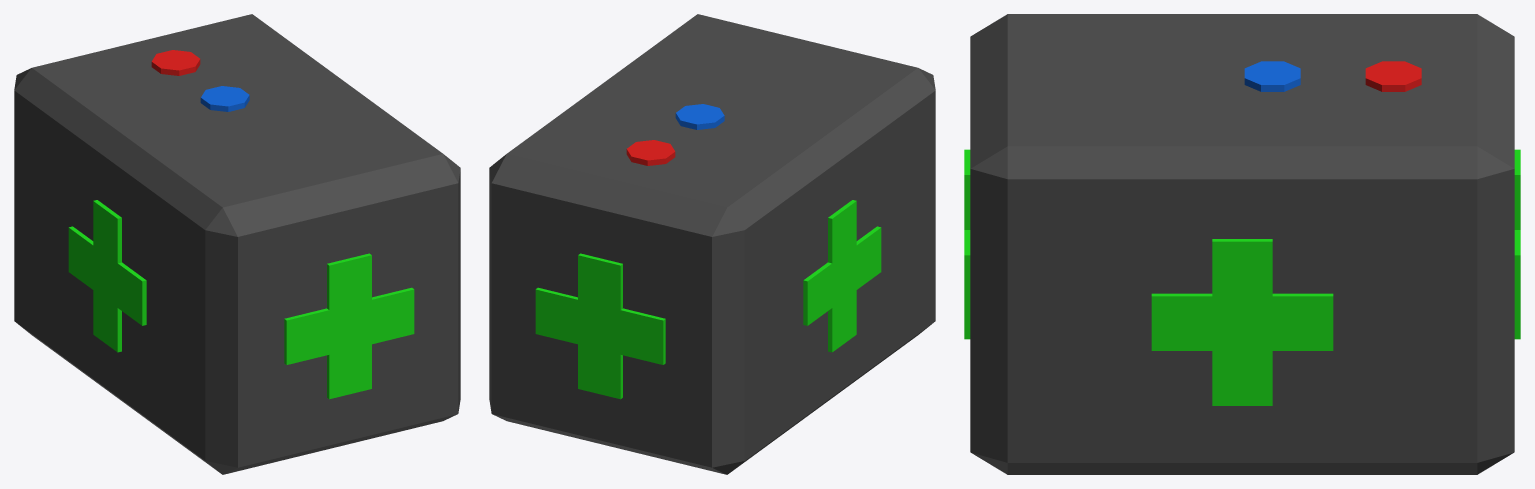
Rendered from HealthCrate.glb.
The picture shows the model from 3 angles, left to right: view 1: azimuth 30°, elevation 25°; view 2: azimuth 150°, elevation 25°; view 3: azimuth 270°, elevation 25°; orthographic projection. The views are drawn at different scales.
Visible parts, largest first — view 1: Cube, Health.002, Health.001, Button1, Button2; view 2: Cube, Health.003, Health.001, Button1, Button2; view 3: Cube, Health, Button2, Button1, Health.002, Health.003.
Part boxes in pixels (box(x1,y1,x2,y2)): Cube: box(14, 14, 460, 474); Health.002: box(284, 253, 414, 399); Health.001: box(68, 200, 146, 352); Button1: box(151, 50, 200, 75); Button2: box(200, 86, 249, 111); Cube: box(489, 14, 935, 474); Health.003: box(535, 253, 665, 399); Health.001: box(803, 200, 881, 352); Button1: box(626, 140, 675, 165); Button2: box(675, 104, 724, 129); Cube: box(970, 14, 1514, 474); Health: box(1151, 239, 1333, 405); Button2: box(1244, 61, 1300, 91); Button1: box(1365, 61, 1421, 91); Health.002: box(964, 149, 970, 339); Health.003: box(1514, 149, 1520, 339).
Size of the model in its own units: 1.24 by 1.23 by 1.84.
